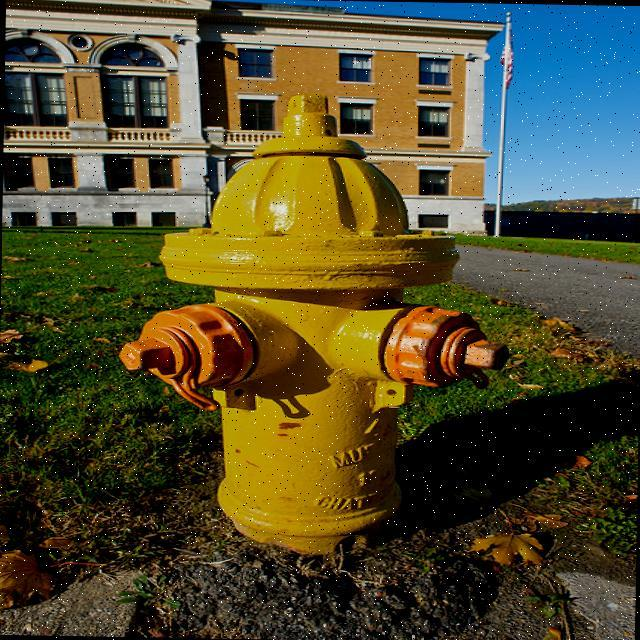fire_hydrant: (117, 90, 514, 558)
